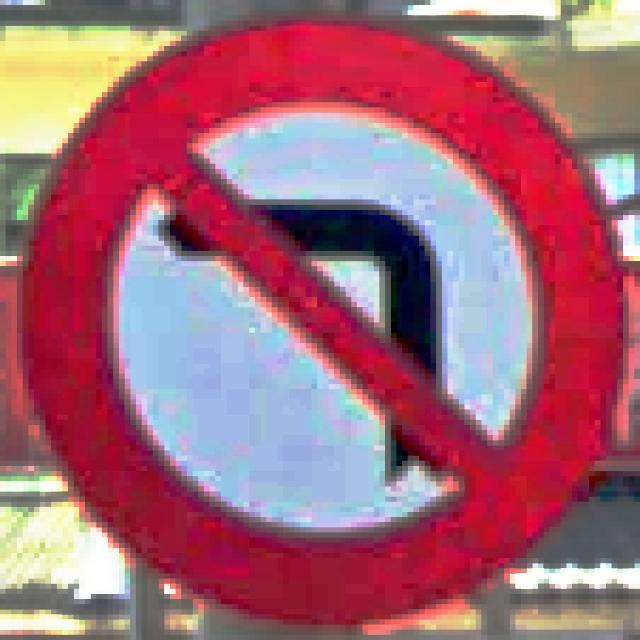noturnleft: (11, 5, 623, 630)
